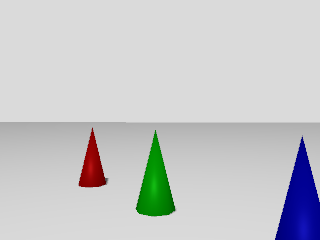blue: (275, 137, 320, 240)
green: (136, 129, 175, 216)
red: (78, 127, 108, 188)
